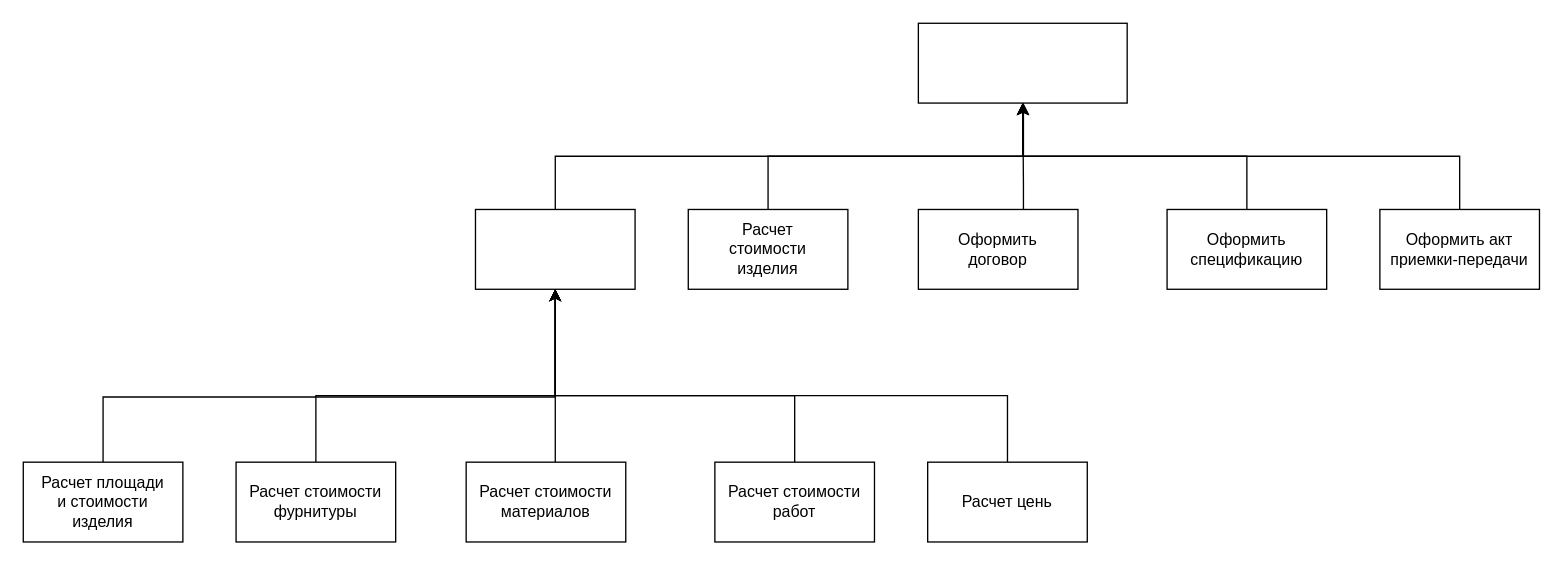
Some shapes in this 1563 by 565 pixel diagram are drawn without their labels. The shapes that lost their labels are listed below. From the top down, each one's centre as x and y in pixels, then its label:
At point (1022, 62): "Оперативная деятельность менеджера по работе с клиентами".
At point (554, 248): "Обработать заявку".
